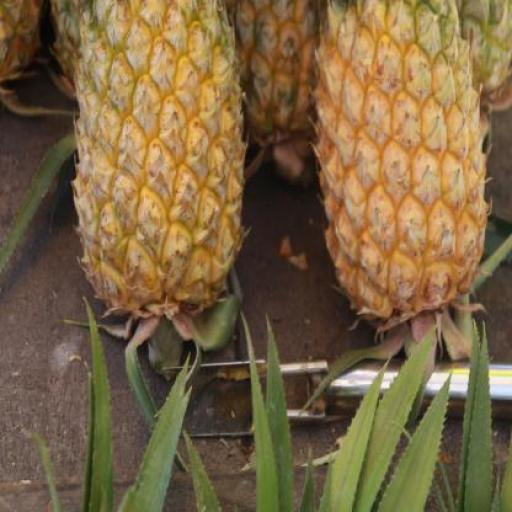Pineapple - v8 v1: (315, 0, 489, 340), (71, 0, 244, 327)
